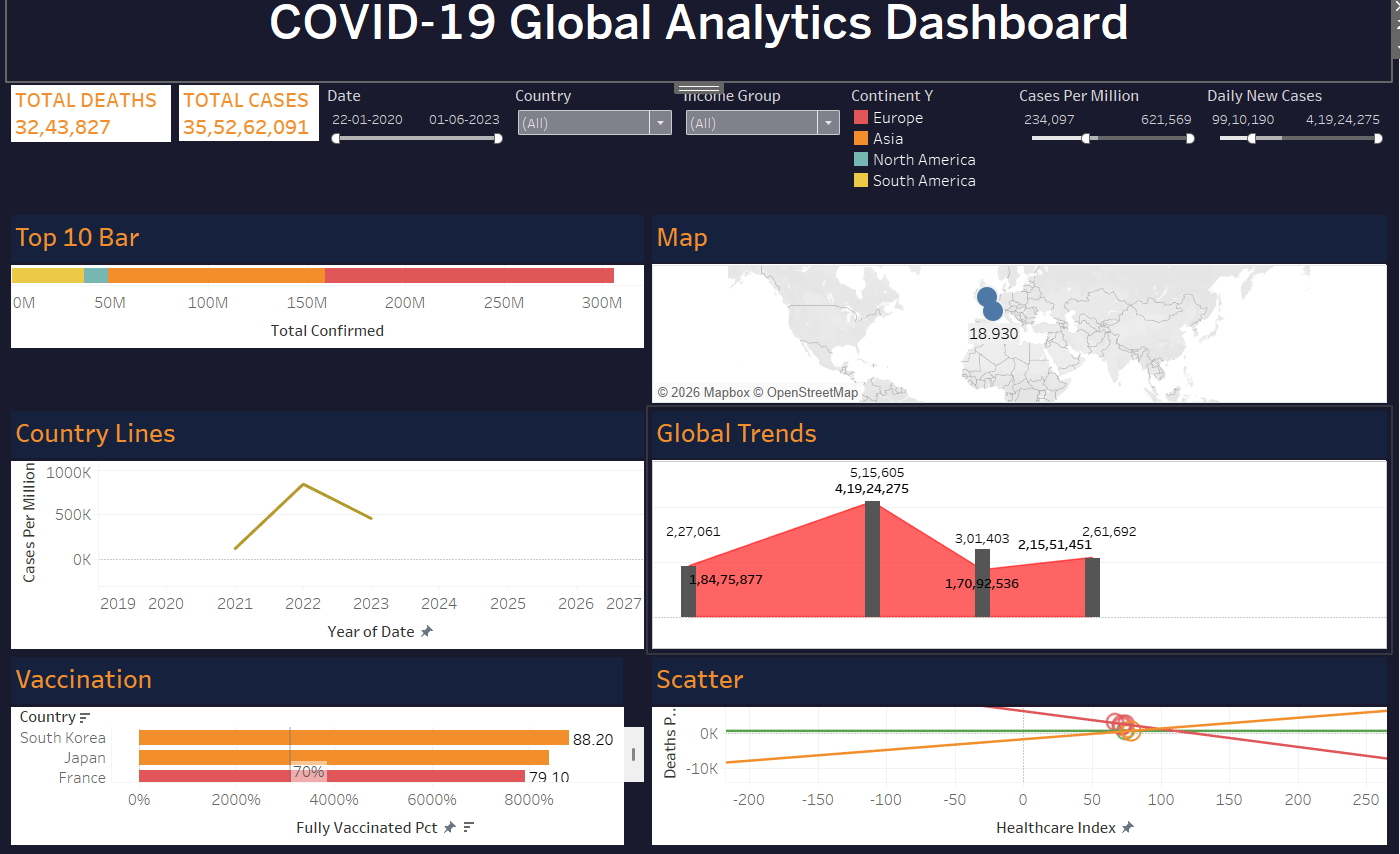

The page's visual inventory and layout, read from the dashboard file:
{"tool":"tableau","page":{"name":"Dashboard 1","canvas":[1400,900],"ordinal":0},"visuals":[{"type":"text","box":[8,8,1384,116]},{"type":"worksheet","title":"Death","mark":"Automatic","box":[8,124,168,130]},{"type":"worksheet","title":"KPI - Total cases","mark":"Automatic","box":[176,124,148,130]},{"type":"filter","title":"Global Trend","param":"[federated.18ofpye0est2iy13b521s13bc2dm].[none:date:qk]","box":[324,124,188,130]},{"type":"filter","title":"Vaccination","param":"[federated.0fr4o460og2m0b0ztftfl1lgdqax].[none:country:nk]","box":[512,124,168,130]},{"type":"filter","title":"MAP","param":"[federated.0xf8prb03urcee16pqxzg0b9ovb7].[none:income_group:nk]","box":[680,124,168,130]},{"type":"legend","title":"Top 10 Bar","param":"[federated.0xf8prb03urcee16pqxzg0b9ovb7].[none:continent_y:nk]","box":[848,124,168,130]},{"type":"filter","title":"Scatter","param":"[federated.0fr4o460og2m0b0ztftfl1lgdqax].[sum:cases_per_million:qk]","box":[1016,124,188,130]},{"type":"filter","title":"Global Trend","param":"[federated.18ofpye0est2iy13b521s13bc2dm].[sum:daily_new_cases:qk]","box":[1204,124,188,130]},{"type":"worksheet","title":"Top 10 Bar","mark":"Automatic","cols":["total_confirmed"],"box":[8,254,641,196]},{"type":"worksheet","title":"MAP","mark":"Automatic","box":[649,254,743,196]},{"type":"worksheet","title":"Country Lines","mark":"Automatic","rows":["cases_per_million"],"cols":["date"],"box":[8,450,641,246]},{"type":"worksheet","title":"Global Trend","mark":"Area","rows":["daily_new_cases","daily_new_deaths"],"cols":["date"],"box":[649,450,743,246]},{"type":"worksheet","title":"Vaccination","mark":"Bar","rows":["country"],"cols":["fully_vaccinated_pct"],"box":[8,696,641,196]},{"type":"worksheet","title":"Scatter","mark":"Automatic","rows":["deaths_per_million"],"cols":["healthcare_index"],"box":[649,696,743,196]}]}

Visuals, with their boxes in screenshot pixels (x1, y1, x2, y2):
text: crop(1, 0, 1391, 70)
"Death" worksheet: crop(1, 70, 170, 201)
"KPI - Total cases" worksheet: crop(170, 70, 318, 201)
"Global Trend" filter: crop(318, 70, 507, 201)
"Vaccination" filter: crop(507, 70, 676, 201)
"MAP" filter: crop(676, 70, 845, 201)
"Top 10 Bar" legend: crop(845, 70, 1014, 201)
"Scatter" filter: crop(1014, 70, 1202, 201)
"Global Trend" filter: crop(1202, 70, 1391, 201)
"Top 10 Bar" worksheet: crop(1, 201, 645, 397)
"MAP" worksheet: crop(645, 201, 1391, 397)
"Country Lines" worksheet: crop(1, 397, 645, 645)
"Global Trend" worksheet (Area marks): crop(645, 397, 1391, 645)
"Vaccination" worksheet (Bar marks): crop(1, 645, 645, 842)
"Scatter" worksheet: crop(645, 645, 1391, 842)
